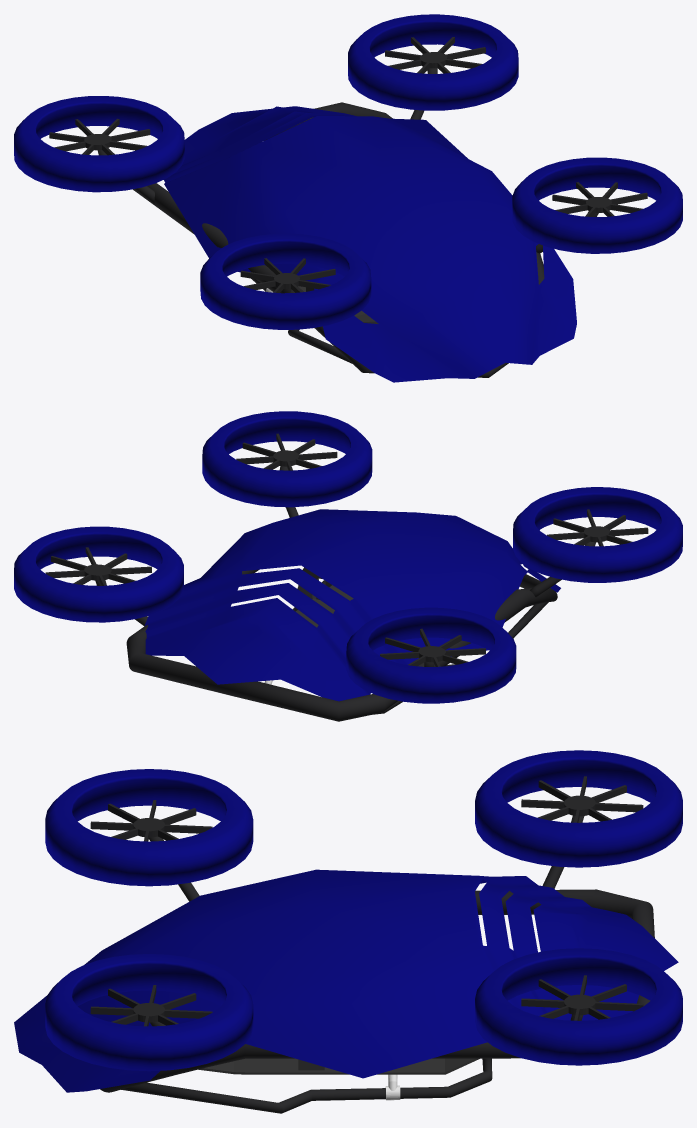
File: drone1 (1).fbx
3 views of the same model, one above another, from view 1: azimuth 30°, elevation 25°; view 2: azimuth 150°, elevation 25°; view 3: azimuth 270°, elevation 25° (orthographic). The views are drawn at different scales.
Visible parts, largest first — view 1: chapa drone, helics, rig; view 2: chapa drone, rig, helics, motor; view 3: chapa drone, rig, helics, motor.
Part boxes in pixels (x1,y1,x2,y2): chapa drone: (14, 14, 682, 382); helics: (49, 37, 647, 292); rig: (97, 68, 598, 377); chapa drone: (14, 411, 682, 703); rig: (95, 466, 595, 721); helics: (45, 433, 648, 666); motor: (294, 567, 353, 627); chapa drone: (14, 750, 682, 1092); rig: (100, 815, 654, 1113); helics: (90, 776, 643, 1026); motor: (198, 1058, 479, 1074).
Size of the model in its own units: 998 by 277 by 987.
